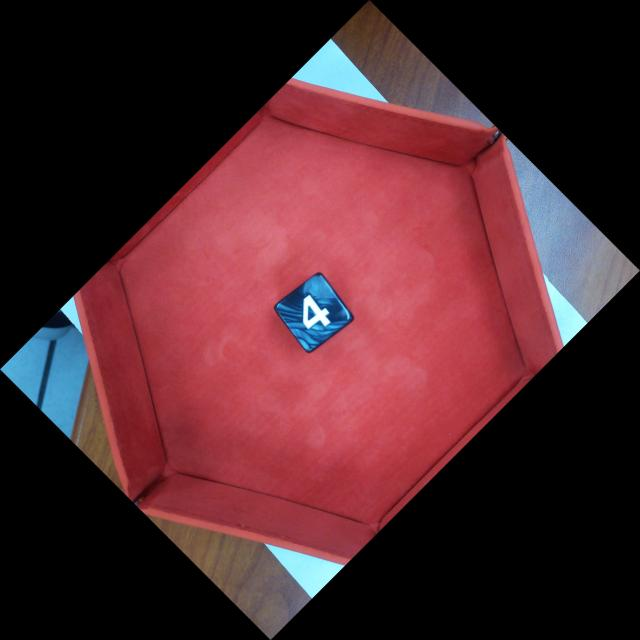dice: (271, 271, 356, 355)
